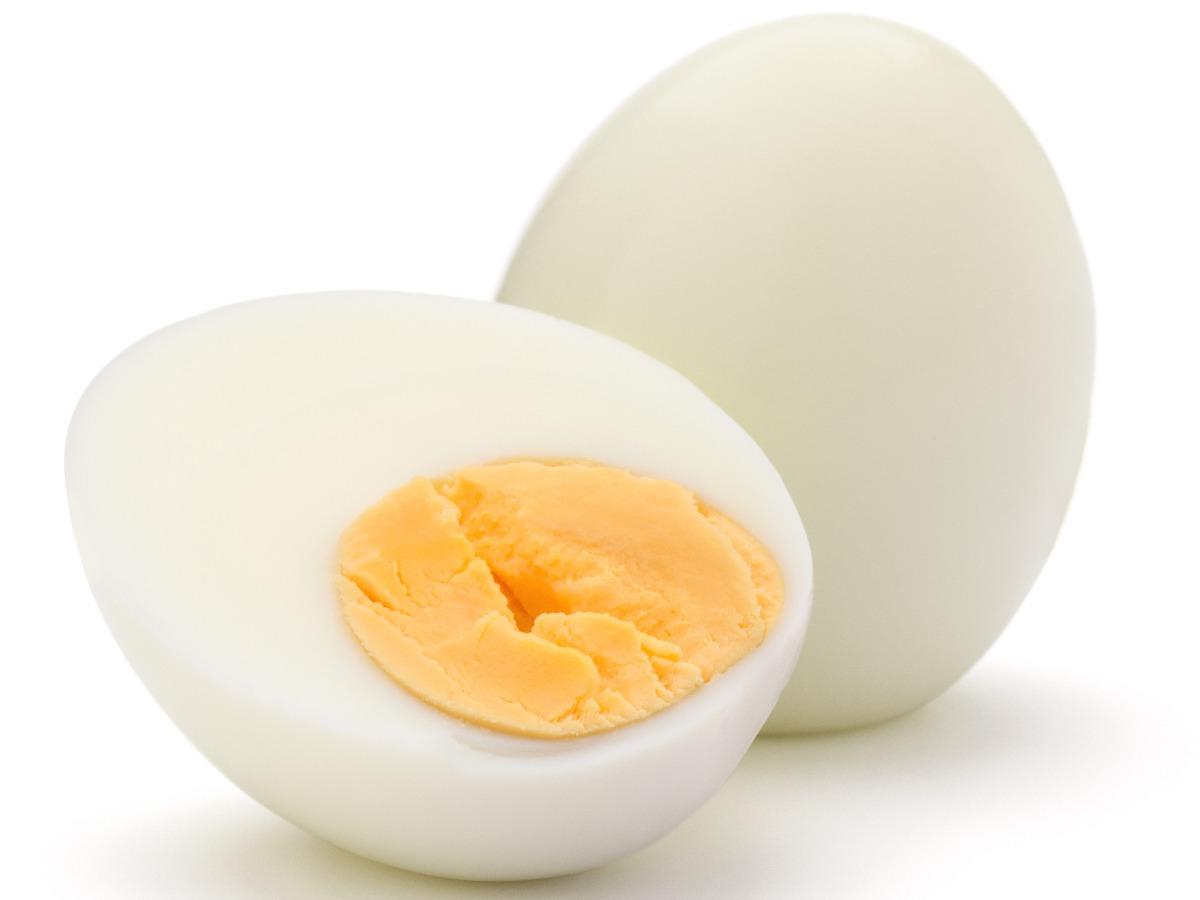egg: (49, 280, 844, 887), (505, 14, 1070, 760)
